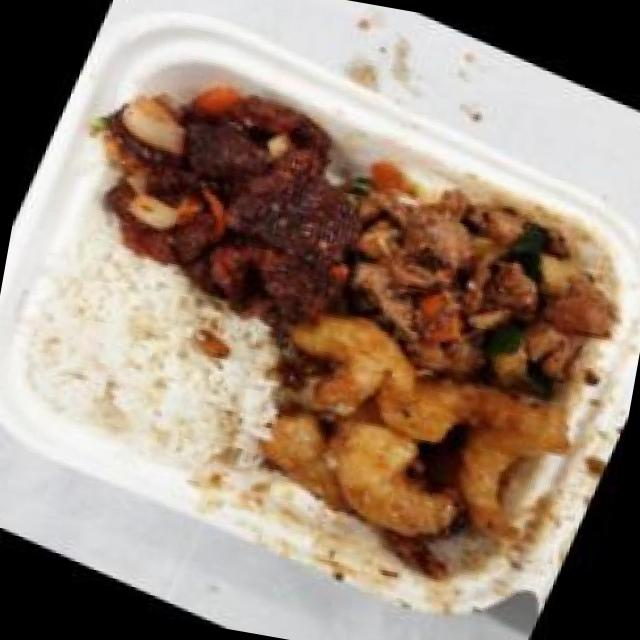Beijing Beef: (48, 29, 414, 354)
Honey Walnut Shrimp: (215, 275, 609, 616)
Kung Pao Chicken: (298, 128, 640, 440)
White Steamed Rice: (0, 225, 302, 498)
